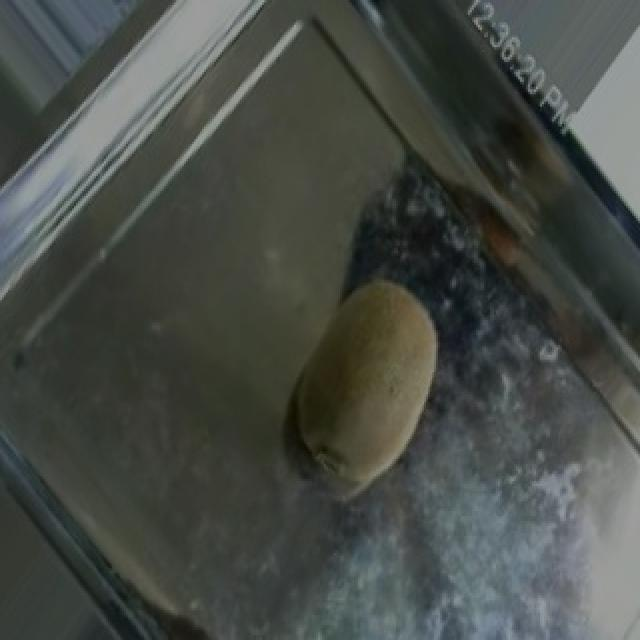Fruit: (254, 246, 478, 528)
